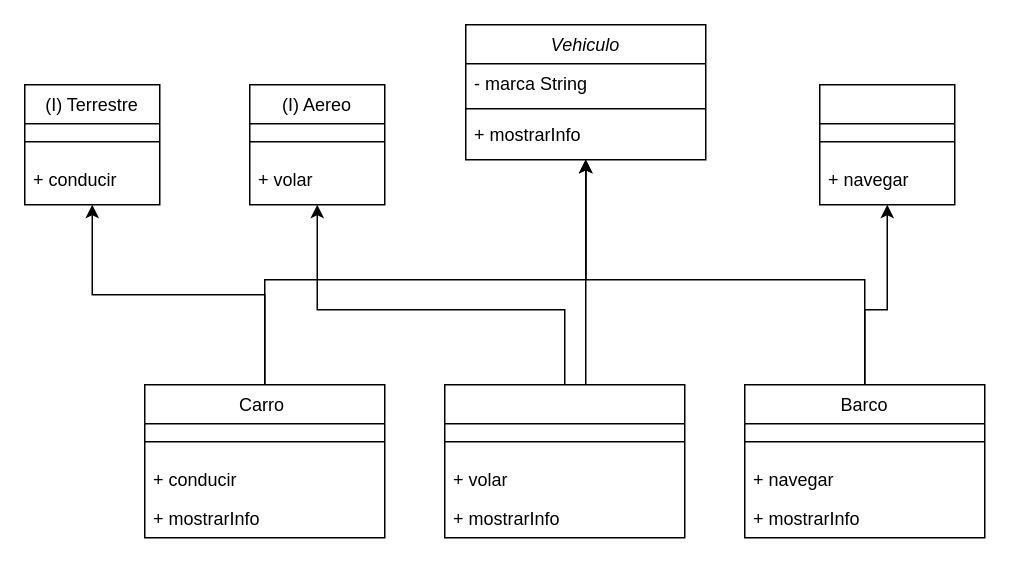
This 1010x563 diagram has some shape labels left out. The box of each missing label's shape, as (x1, y1, x2, y2) in pixels:
(I) Acuatico: (818, 83, 955, 205)
Avion: (443, 383, 685, 538)
